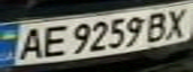2: (87, 17, 112, 53)
5: (106, 16, 130, 51)
9: (66, 20, 93, 55), (124, 12, 148, 47)
A: (15, 25, 48, 61)
B: (142, 9, 175, 43)
E: (36, 22, 72, 58)
X: (160, 5, 193, 39)
